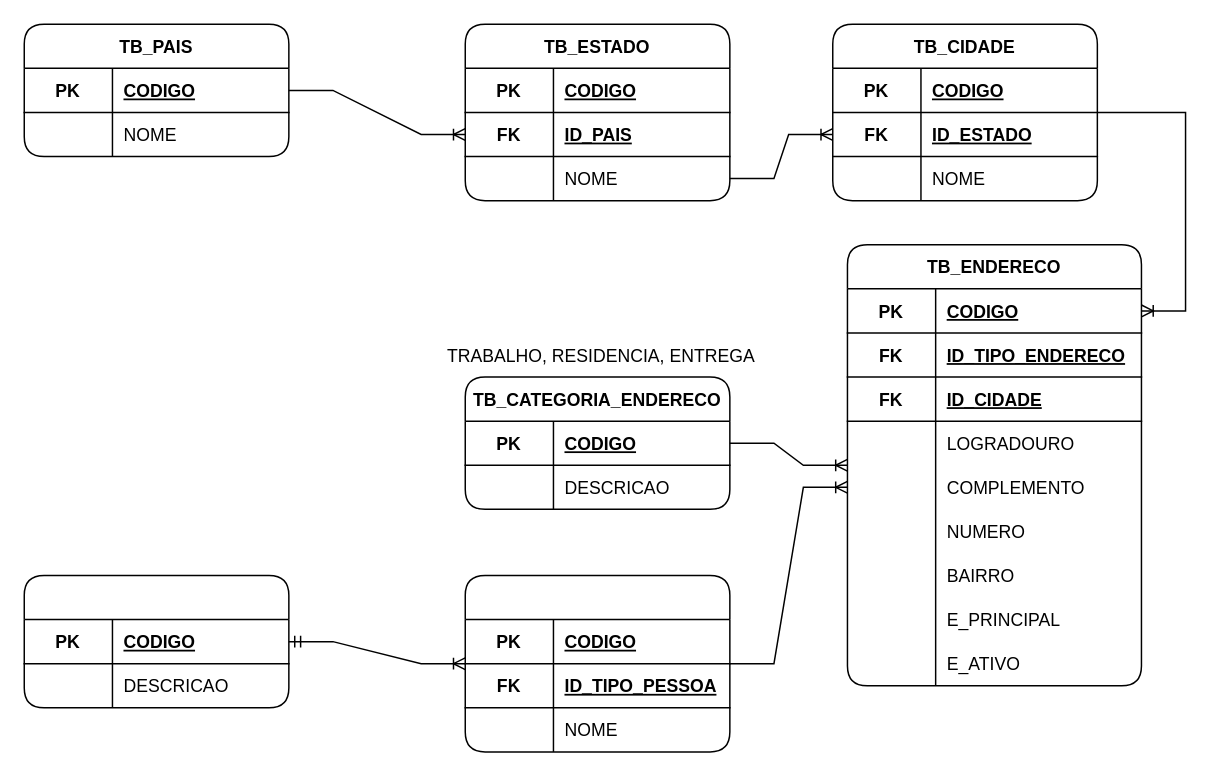
Some shapes in this 1210 by 776 pixel diagram are drawn without their labels. The shapes that lost their labels are listed below. From the top down, each one's box as (x1, y1, x2, y2) in pixels, then its label:
(23, 574, 289, 708): TB_TIPO_PESSOA
(464, 574, 730, 752): TB_PESSOA
